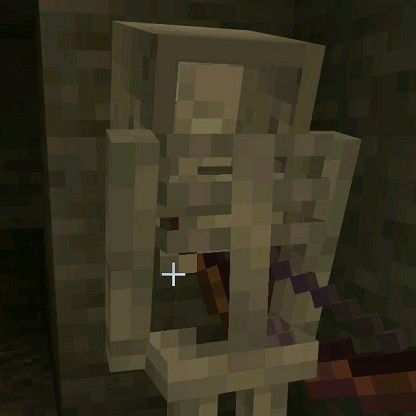skeleton: (93, 14, 361, 328)
